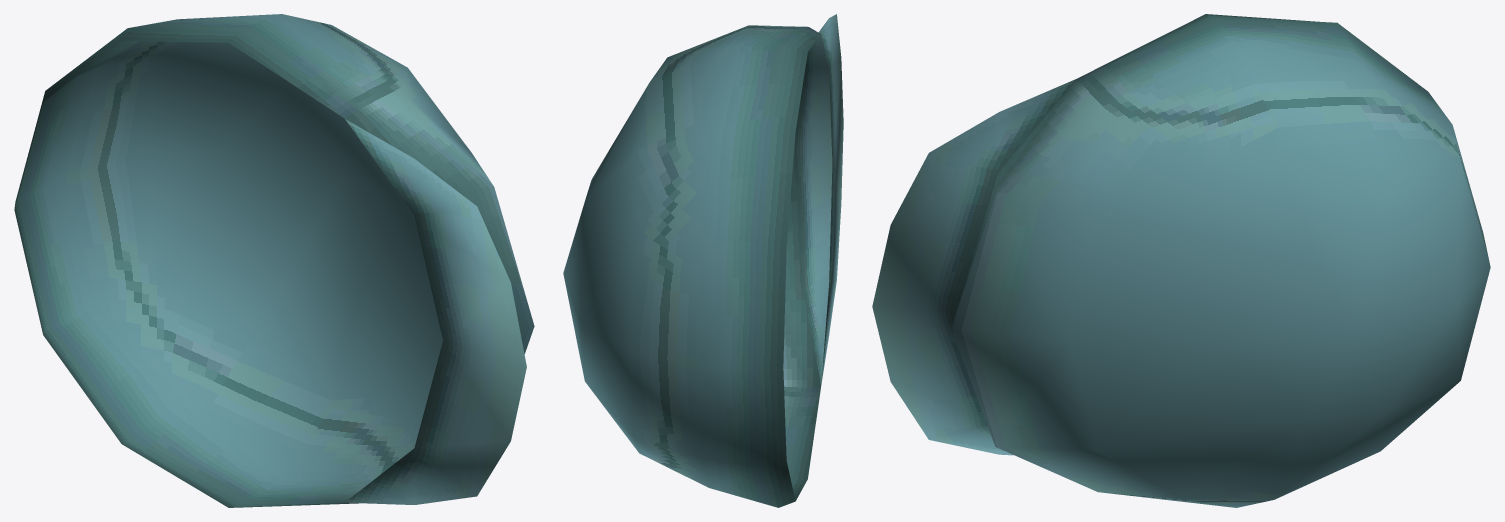
Rendered from cap_cap_paperboy.dae.
3 views of the same model, side by side, from view 1: azimuth 30°, elevation 25°; view 2: azimuth 150°, elevation 25°; view 3: azimuth 270°, elevation 25° (orthographic). The views are drawn at different scales.
Parts seen in each view (by area): view 1: cap_cap_paperboy; view 2: cap_cap_paperboy; view 3: cap_cap_paperboy.
Boxes of the visible parts, left/top/right/bottom form: cap_cap_paperboy: left=14, top=14, right=534, bottom=507; cap_cap_paperboy: left=563, top=14, right=843, bottom=507; cap_cap_paperboy: left=872, top=14, right=1490, bottom=507.
Bounding box in the file's own units: 14.27 × 21.56 × 25.75.
1 material, 1 textured.
